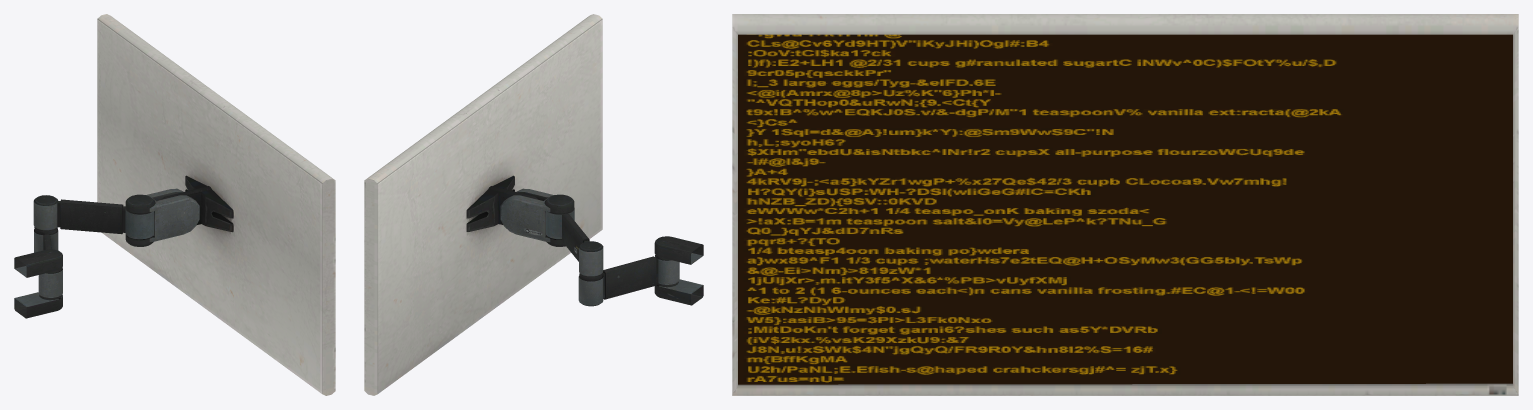
The model's file is lab_monitor_01.glb.
The picture shows the model from 3 angles, left to right: view 1: azimuth 30°, elevation 25°; view 2: azimuth 150°, elevation 25°; view 3: azimuth 270°, elevation 25°; orthographic projection. The views are drawn at different scales.
Parts seen in each view (by area): view 1: lab_monitor_pose01_parts\obj\lab_monitor_pose01.obj; view 2: lab_monitor_pose01_parts\obj\lab_monitor_pose01.obj; view 3: lab_monitor_pose01_parts\obj\lab_monitor_pose01.obj.
Part boxes in pixels (x1,y1,x2,y2): lab_monitor_pose01_parts\obj\lab_monitor_pose01.obj: [14, 14, 335, 395]; lab_monitor_pose01_parts\obj\lab_monitor_pose01.obj: [364, 14, 703, 395]; lab_monitor_pose01_parts\obj\lab_monitor_pose01.obj: [732, 14, 1518, 395].
Bounding box in the file's own units: 0.479 × 0.4672 × 0.8831.
Materials: 2 (2 with a texture image).
